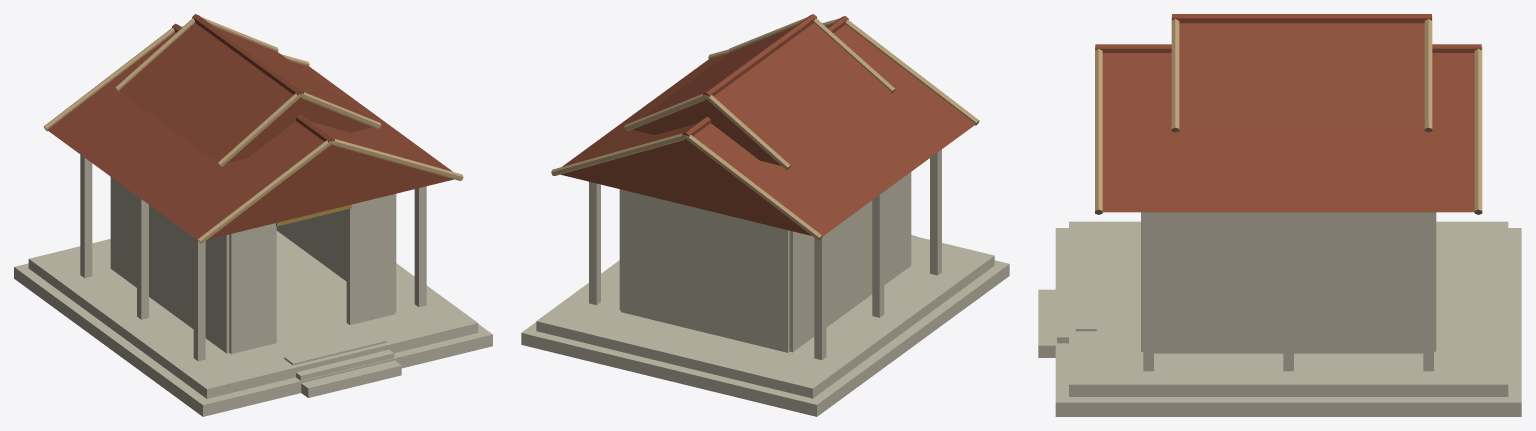
Rendered from hall-normal.glb.
The picture shows the model from 3 angles, left to right: view 1: azimuth 30°, elevation 25°; view 2: azimuth 150°, elevation 25°; view 3: azimuth 270°, elevation 25°; orthographic projection. The views are drawn at different scales.
Visible parts, largest first — view 1: hall; view 2: hall; view 3: hall.
Part boxes in pixels (x1=…): hall: x1=14, y1=14, x2=492, y2=416; hall: x1=521, y1=14, x2=1009, y2=416; hall: x1=1038, y1=14, x2=1521, y2=416.
Bounding box in the file's own units: 6.2 × 5.23 × 7.26.
